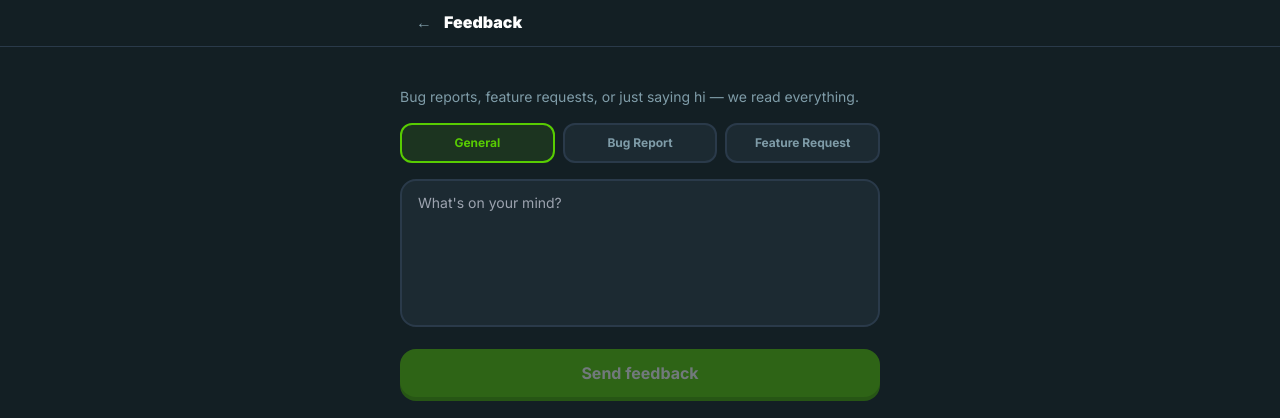
Feedback Page › successful submit shows thank you message
Type "Great app, love it!" into the text box with placeholder "What's on your mind?" at (640, 253), box [400,179,880,327]
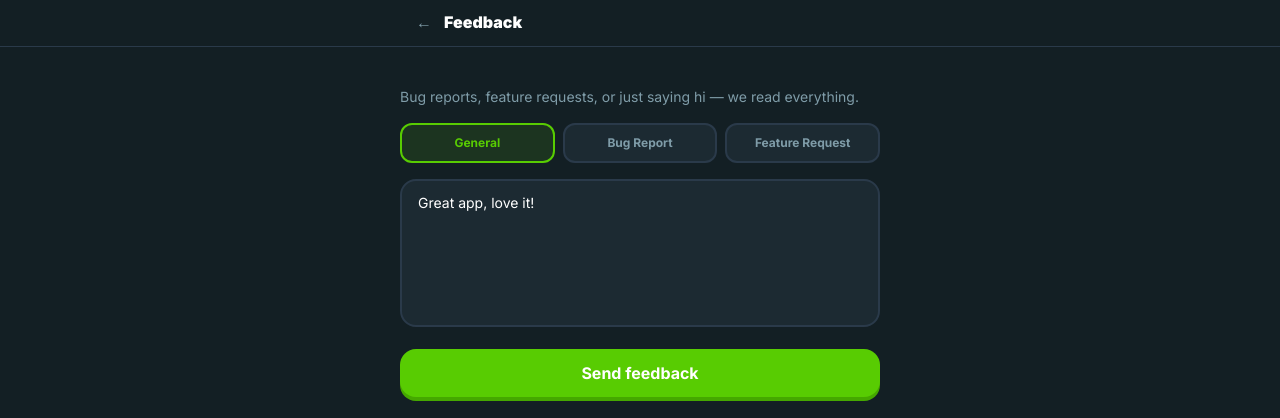
Submit the form with placeholder "What's on your mind?", box [400,87,880,397]
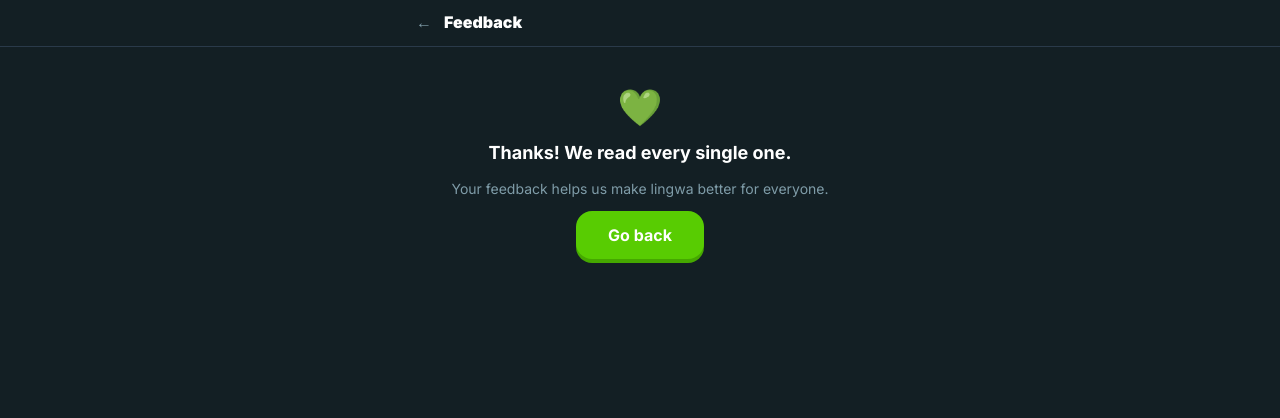
Check: the text "Thanks! We read every single one." is shown, box [488,142,792,163]
